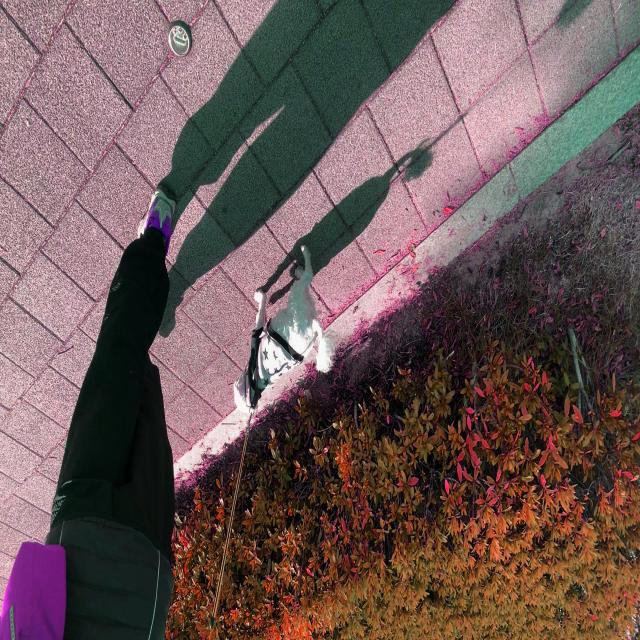Leashed_Dog: (304, 0, 499, 396)
